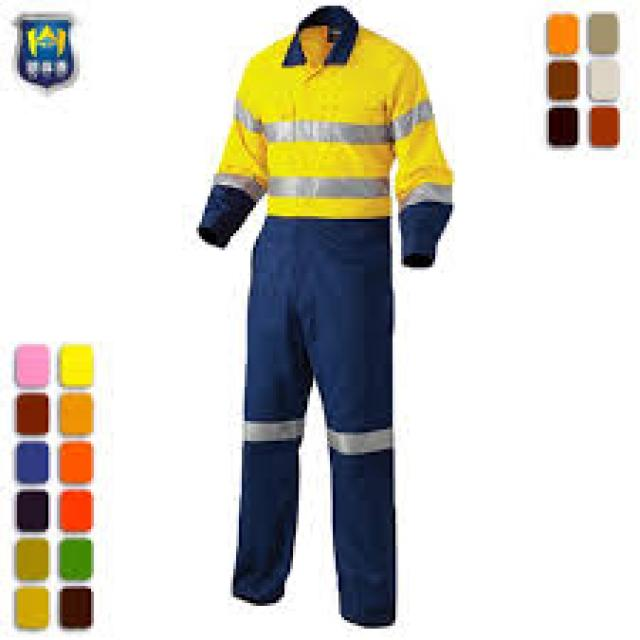vest: (193, 2, 456, 633)
